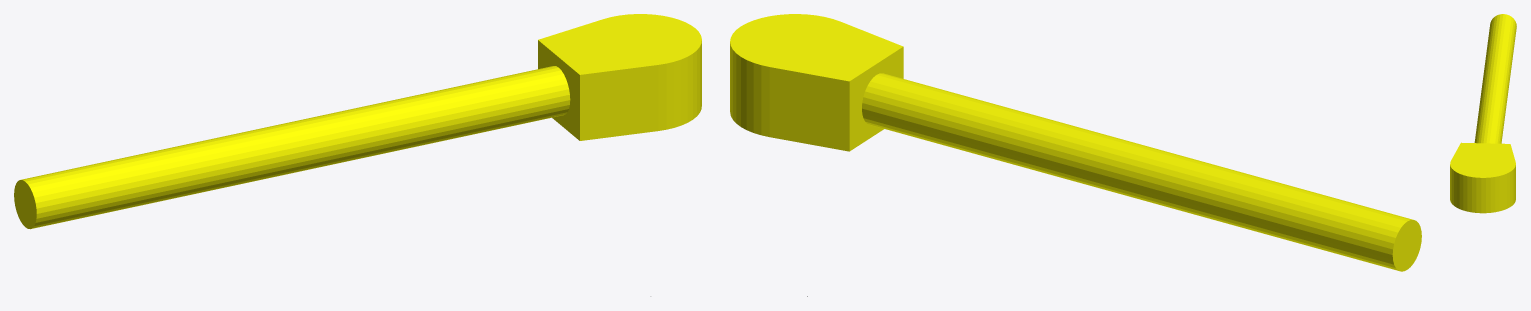
3 renders of one model, left to right at view 1: azimuth 30°, elevation 25°; view 2: azimuth 150°, elevation 25°; view 3: azimuth 270°, elevation 25°, orthographic. The views are drawn at different scales.
Visible parts, largest first — view 1: node; view 2: node; view 3: node.
Part boxes in pixels (x1,y1,x2,y2): node: (14, 14, 701, 296); node: (730, 14, 1421, 296); node: (1450, 14, 1516, 213).
Size of the model in its own units: 597 by 218 by 99.15.
